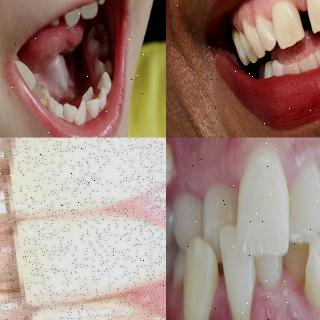calculus: (0, 277, 20, 313), (0, 219, 12, 259)
cavities: (90, 29, 106, 47)
maligned: (236, 141, 290, 255), (170, 243, 219, 320), (220, 232, 258, 320), (280, 230, 314, 286), (296, 239, 319, 320), (62, 5, 80, 30), (74, 98, 88, 126), (78, 86, 95, 107), (85, 99, 101, 121)
